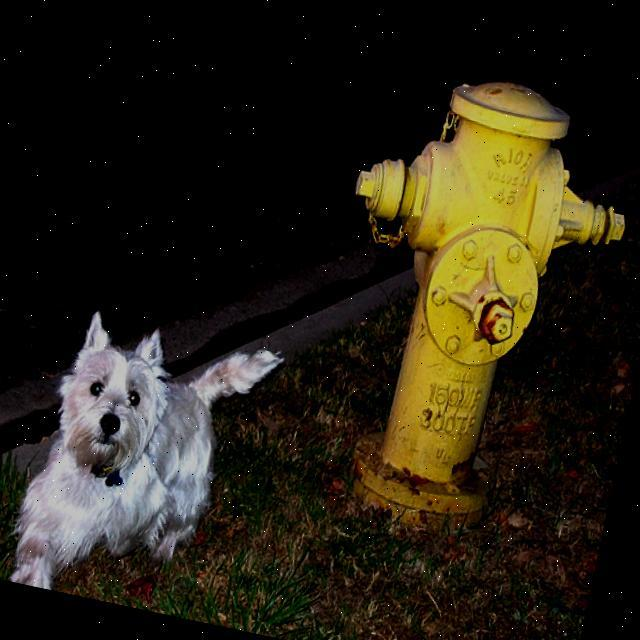fire_hydrant: (285, 58, 640, 565)
